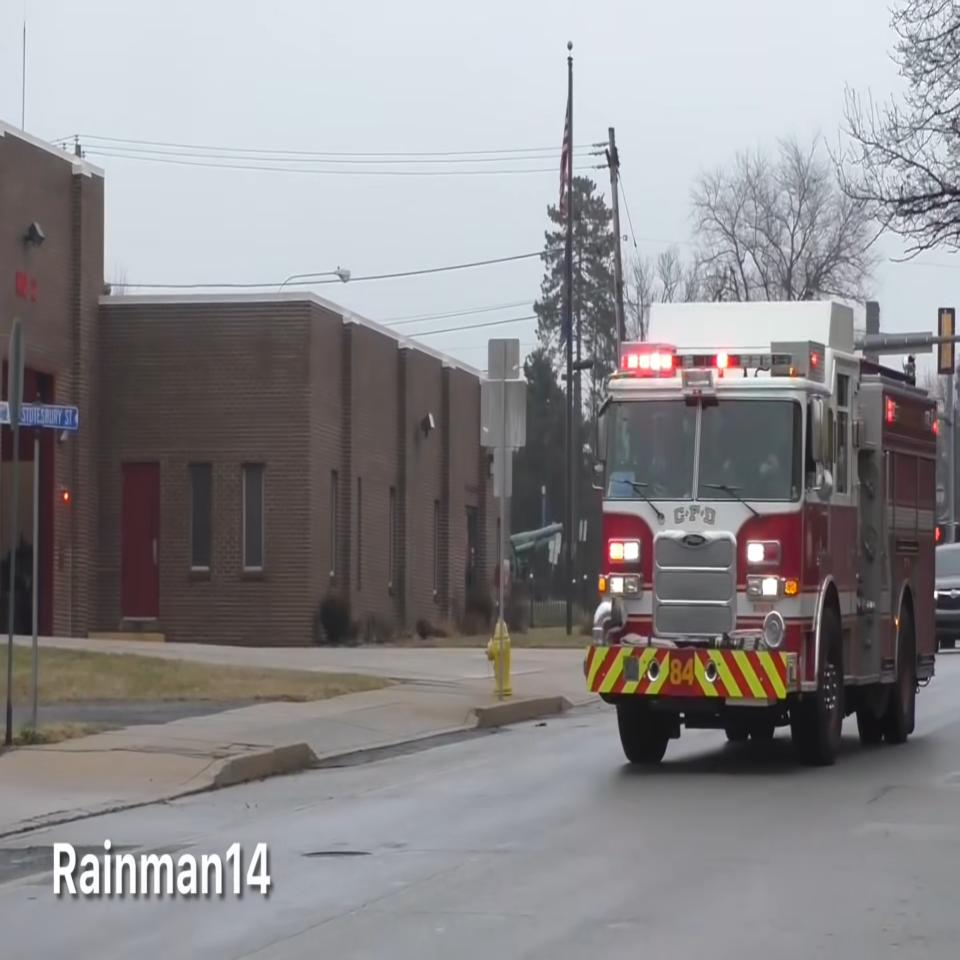viatura: (584, 301, 940, 765)
